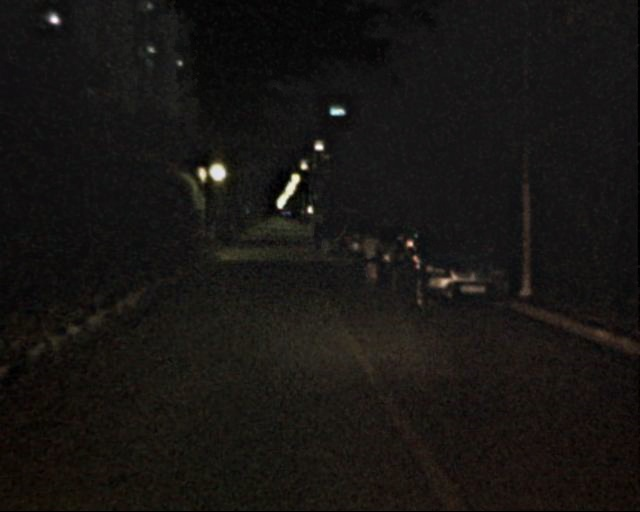person: (354, 226, 378, 284), (313, 217, 330, 258), (305, 223, 316, 251)
